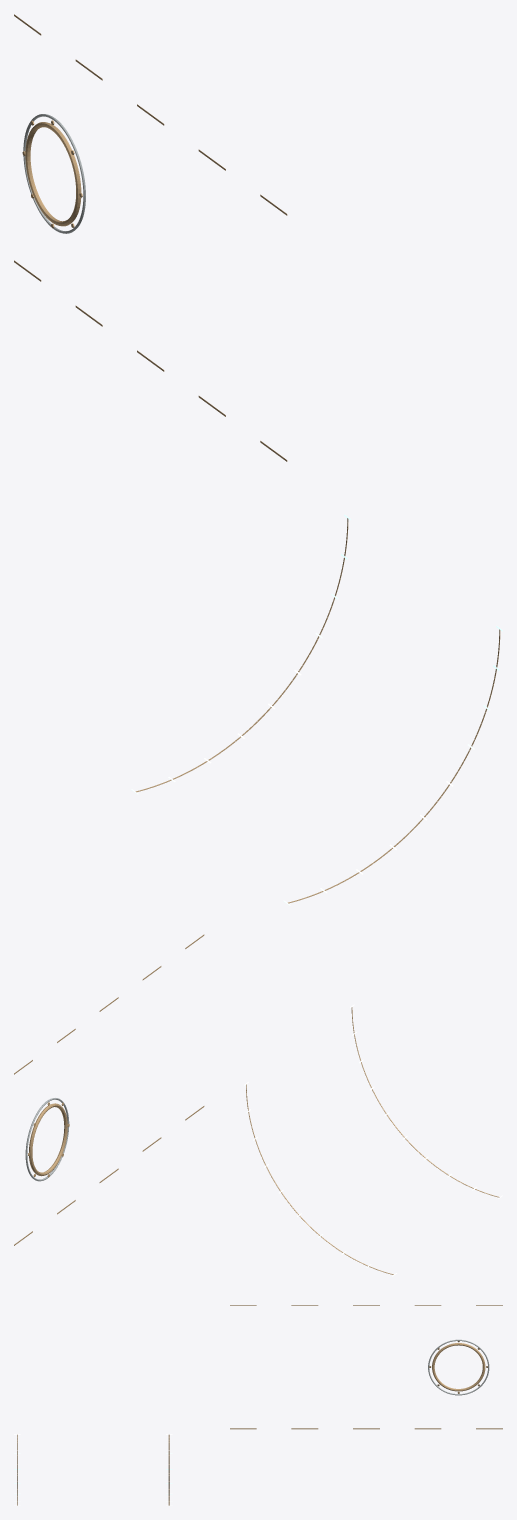
Rendered from B-gravity-instruments.glb.
3 renders of one model, top to bottom at view 1: azimuth 30°, elevation 25°; view 2: azimuth 150°, elevation 25°; view 3: azimuth 270°, elevation 25°, orthographic. The views are drawn at different scales.
Parts seen in each view (by area): view 1: B-gravity-instruments-bronze; view 2: B-gravity-instruments-bronze, B-gravity-instruments-metal; view 3: B-gravity-instruments-bronze, B-gravity-instruments-metal.
Boxes of the visible parts, <box> form: B-gravity-instruments-bronze: <box>14,14,500,903</box>; B-gravity-instruments-bronze: <box>14,934,499,1274</box>; B-gravity-instruments-metal: <box>25,1098,69,1181</box>; B-gravity-instruments-bronze: <box>17,1305,502,1505</box>; B-gravity-instruments-metal: <box>428,1339,489,1395</box>.
Size of the model in its own units: 3.21 by 6.91 by 12.71.
